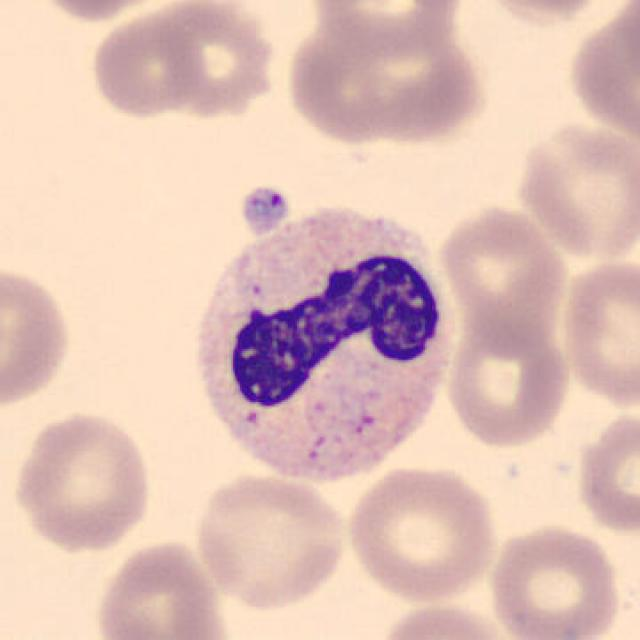Neutrophil: (182, 195, 462, 500)
Platelets: (236, 184, 292, 236)
RBC: (342, 460, 502, 605), (190, 469, 350, 612), (9, 407, 156, 554), (436, 200, 572, 354), (119, 0, 281, 123), (510, 115, 638, 262), (282, 18, 423, 147), (344, 15, 488, 141), (441, 318, 574, 452), (484, 520, 626, 640), (91, 536, 233, 640), (87, 5, 208, 122), (556, 254, 638, 409), (0, 260, 76, 412), (562, 2, 638, 148), (308, 0, 470, 58), (572, 406, 638, 540), (373, 597, 513, 640), (468, 0, 622, 28), (25, 0, 187, 25)
